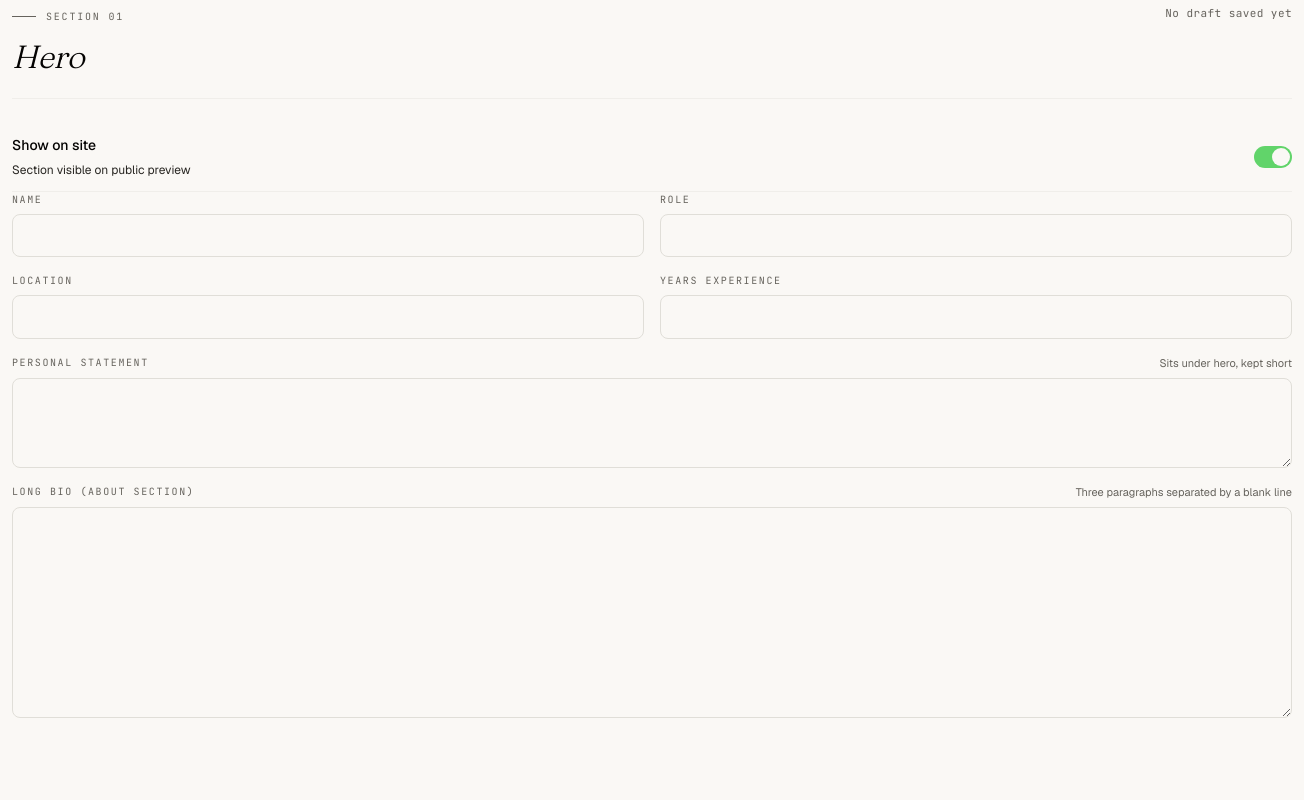
Test: <HeroEditor /> › shows the saved-at status after the action resolves
In the field below "Name": point(328, 235) [12,214,644,257], type "X"
Wait 300 ms
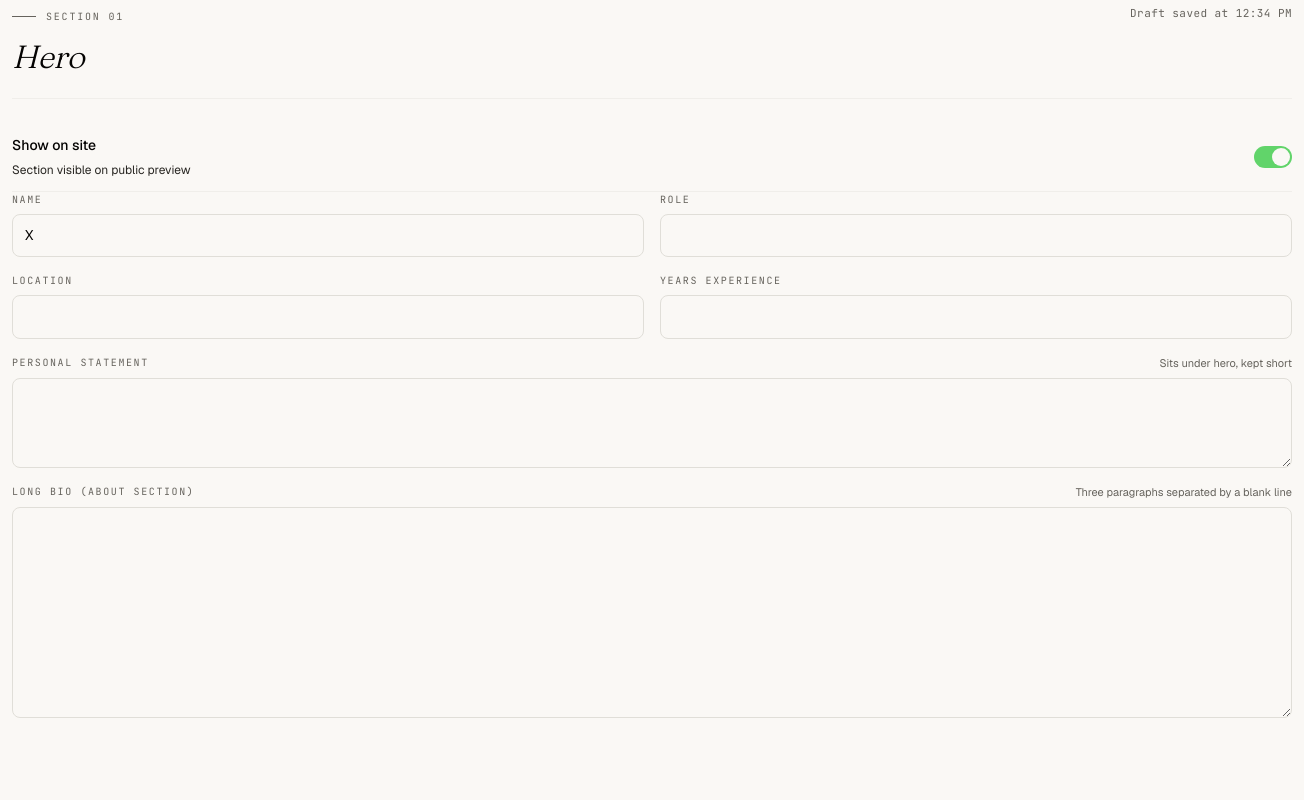
expect the text with test id "autosave-status" shows "Draft saved at": met, box [1130,6,1292,20]
